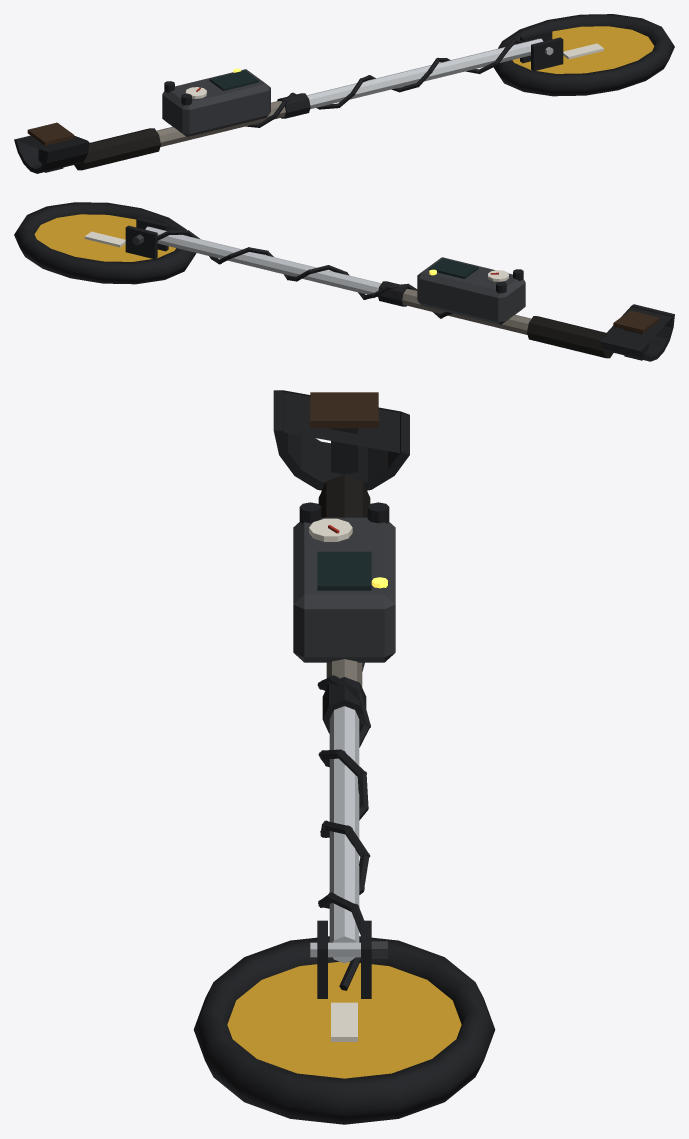
Rendered from metal_detector.glb.
3 renders of one model, top to bottom at view 1: azimuth 30°, elevation 25°; view 2: azimuth 150°, elevation 25°; view 3: azimuth 270°, elevation 25°, orthographic. The views are drawn at different scales.
Parts seen in each view (by area): view 1: metal_detector; view 2: metal_detector; view 3: metal_detector.
Boxes of the visible parts, x1,y1,x2,y2 form: metal_detector: [14, 14, 674, 173]; metal_detector: [14, 202, 674, 361]; metal_detector: [193, 390, 495, 1124].
Size of the model in its own units: 1.08 by 0.1187 by 0.2215.
